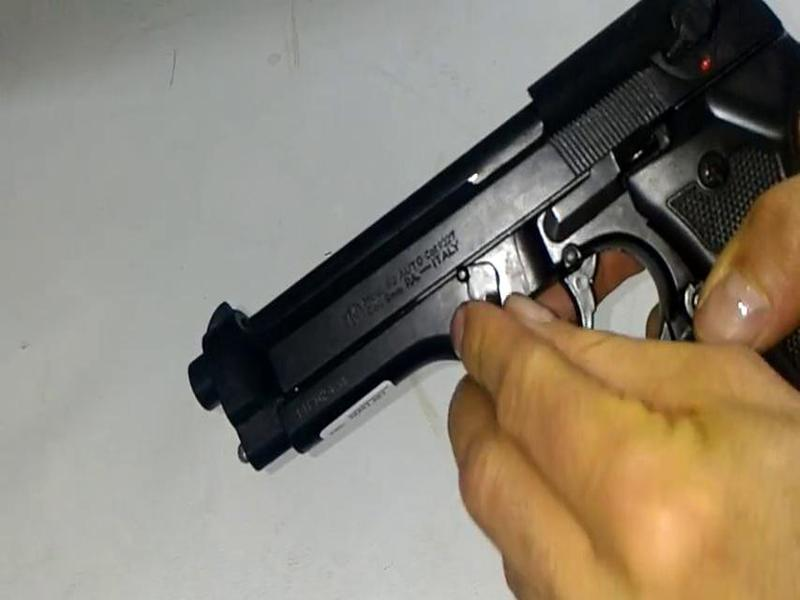Pistola: (144, 12, 780, 443)
